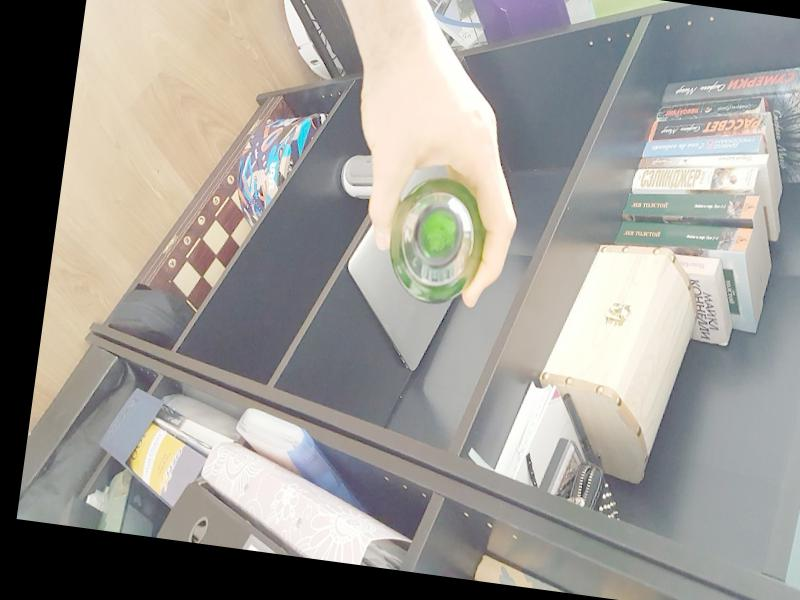Beer: (381, 174, 491, 301)
